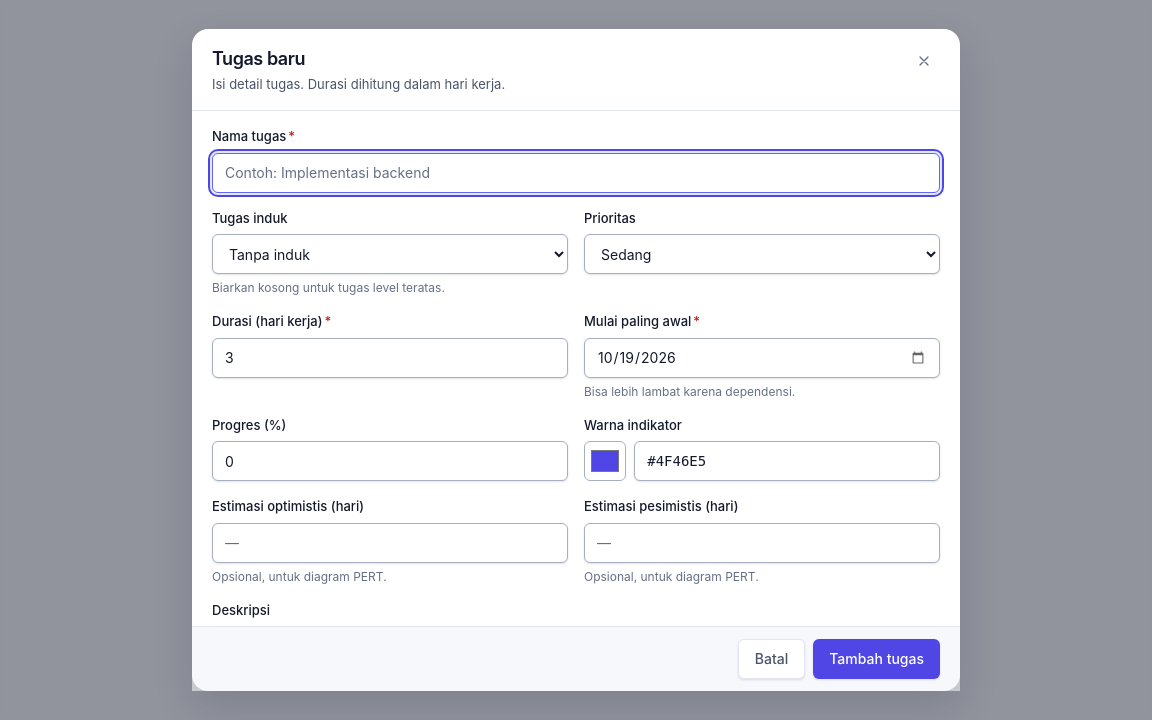
Test: TaskDialog › menolak nama kosong saat tugas baru disimpan
Click the button "Tambah tugas".
click(877, 659)  # box [813,639,940,679]
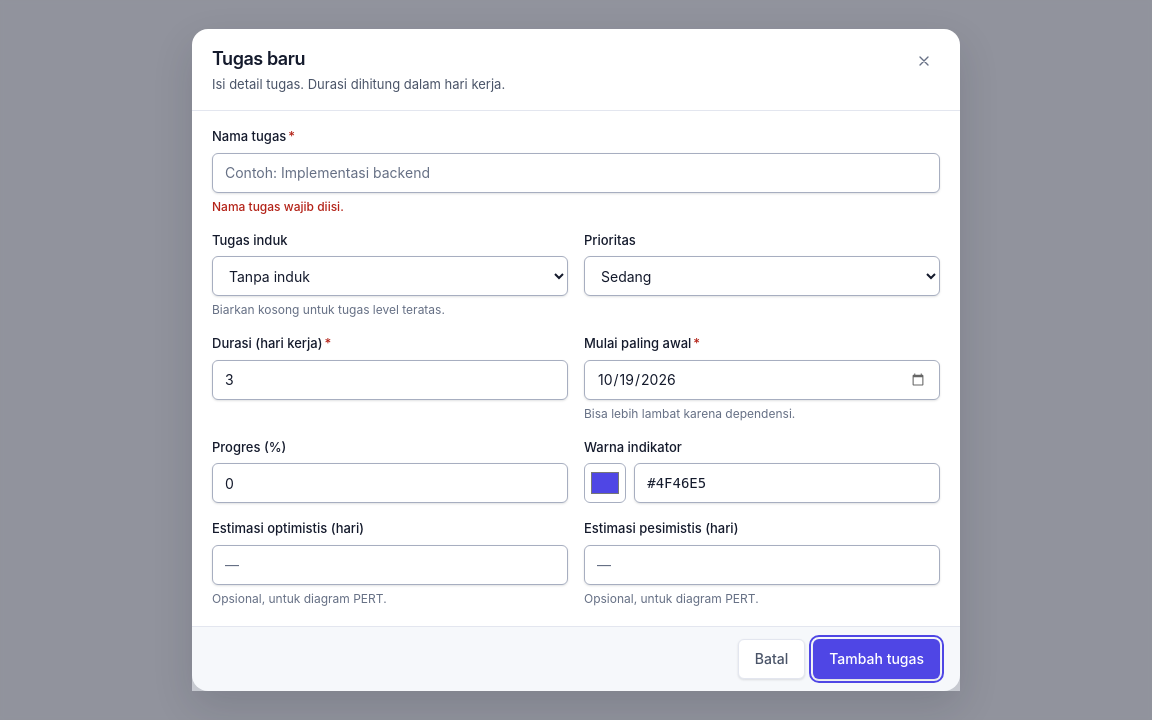
expect the text "Nama tugas wajib diisi." is shown: met, box [212,199,344,214]
